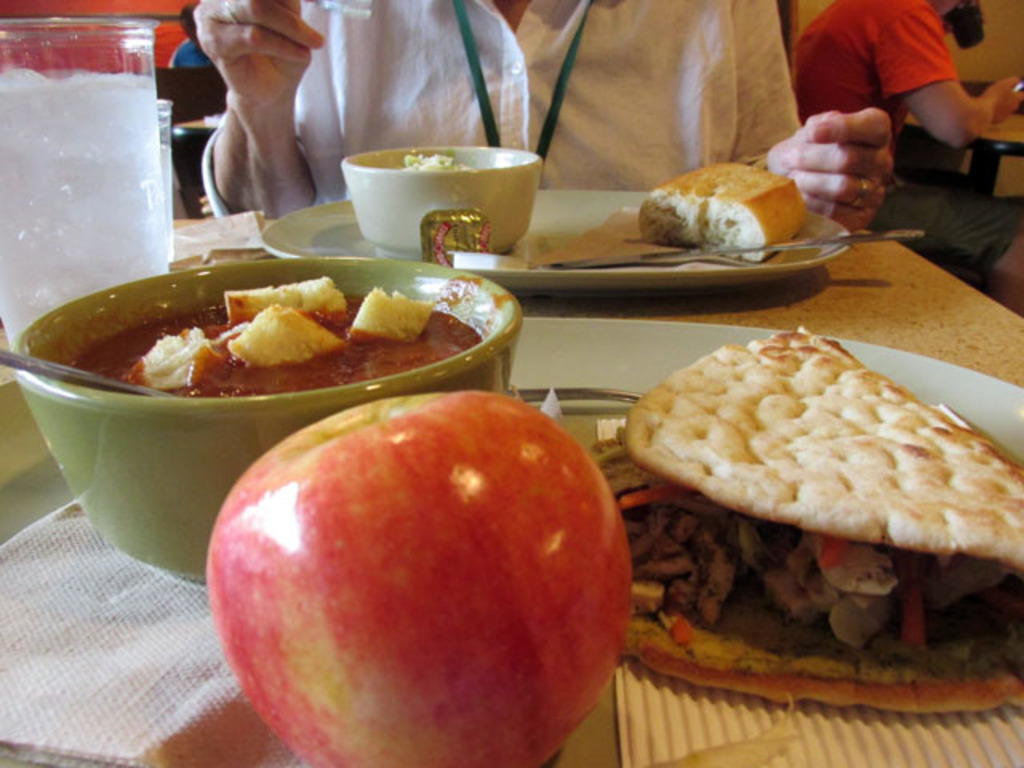Apple: (204, 388, 646, 763)
